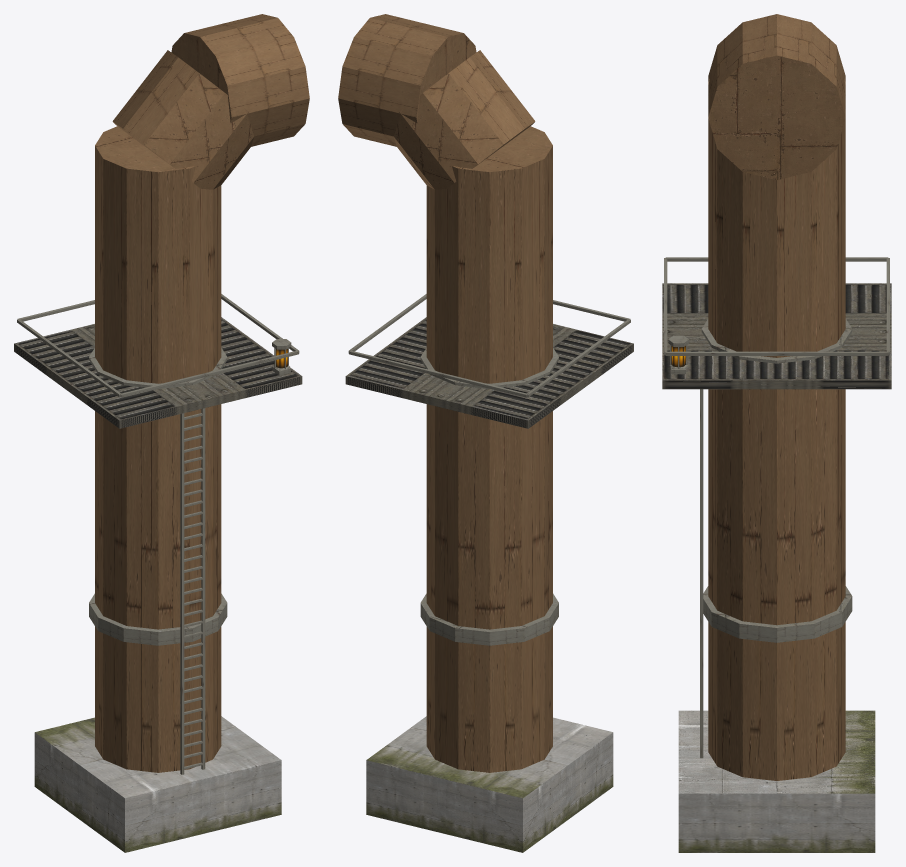
The model's file is vent-stack.glb.
3 views of the same model, side by side, from view 1: azimuth 30°, elevation 25°; view 2: azimuth 150°, elevation 25°; view 3: azimuth 270°, elevation 25° (orthographic). The views are drawn at different scales.
Parts seen in each view (by area): view 1: vent-stack_metal, vent-stack_concrete; view 2: vent-stack_metal, vent-stack_concrete; view 3: vent-stack_metal, vent-stack_concrete.
Part boxes in pixels (box(x1,y1,x2,y2)): vent-stack_metal: box(14, 14, 309, 774); vent-stack_concrete: box(34, 716, 281, 852); vent-stack_metal: box(338, 14, 633, 772); vent-stack_concrete: box(366, 716, 613, 852); vent-stack_metal: box(662, 14, 891, 780); vent-stack_concrete: box(678, 710, 875, 852).
Size of the model in its own units: 8.1 by 27.6 by 7.
3 materials, 3 textured.
